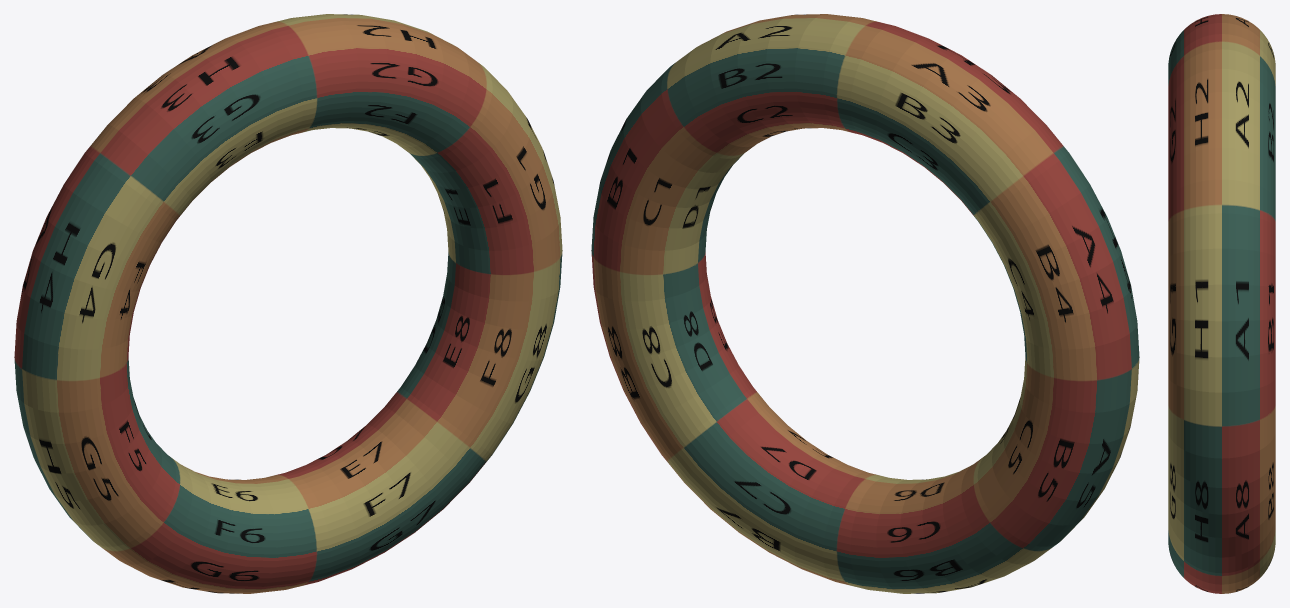
File: texture_torus_R21_r13.glb
3 views of the same model, side by side, from view 1: azimuth 30°, elevation 25°; view 2: azimuth 150°, elevation 25°; view 3: azimuth 270°, elevation 25° (orthographic). The views are drawn at different scales.
Parts seen in each view (by area): view 1: world; view 2: world; view 3: world.
Part boxes in pixels (x1=…): world: x1=14, y1=14, x2=562, y2=593; world: x1=591, y1=14, x2=1139, y2=593; world: x1=1168, y1=14, x2=1275, y2=593.
Bounding box in the file's own units: 29.47 × 29.41 × 5.46.
Materials: 1 (1 with a texture image).
